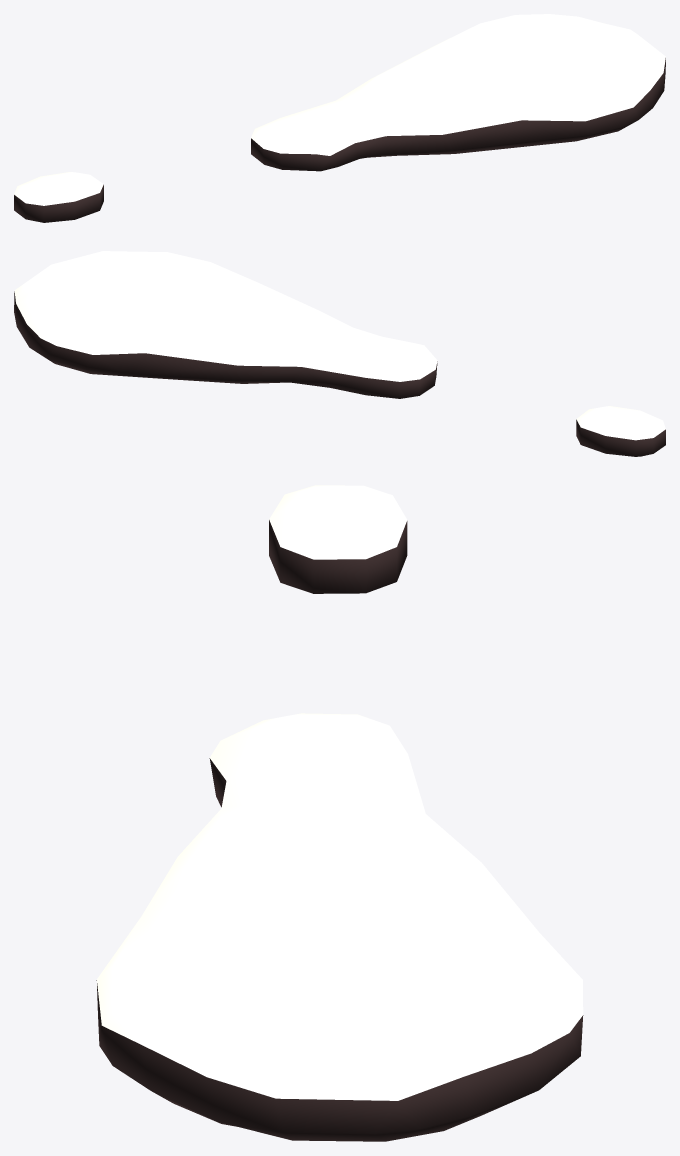
File: puddle_01b.glb
3 views of the same model, one above another, from view 1: azimuth 30°, elevation 25°; view 2: azimuth 150°, elevation 25°; view 3: azimuth 270°, elevation 25° (orthographic). The views are drawn at different scales.
Parts seen in each view (by area): view 1: EA_Puddle_01b; view 2: EA_Puddle_01b; view 3: EA_Puddle_01b.
Boxes of the visible parts, box(x1,y1,x2,y2) form: EA_Puddle_01b: box(14, 14, 665, 222); EA_Puddle_01b: box(14, 251, 665, 456); EA_Puddle_01b: box(96, 485, 583, 1141).
Size of the model in its own units: 6.45 by 0.6648 by 2.15.
